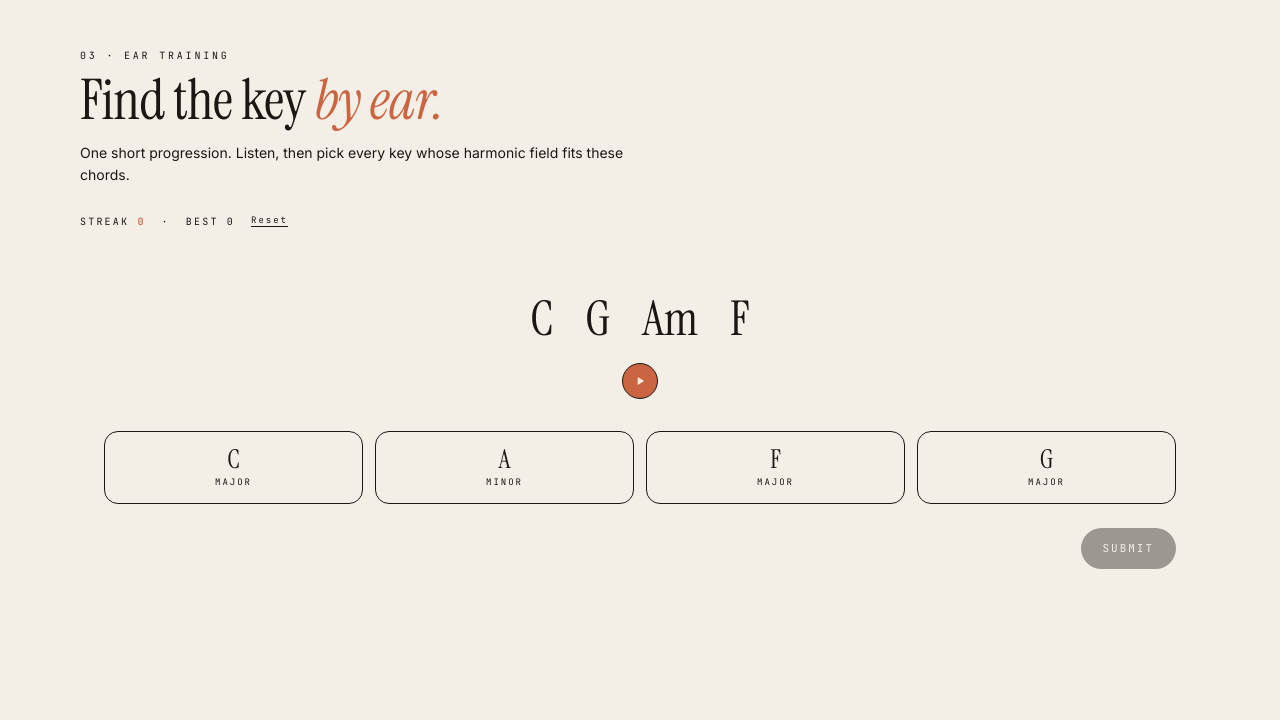
it: EarTrainingView › Try again clears selections and reveal, leaves streak alone
Click the button "C Major". click: (234, 467)
box: x1=104 y1=431 x2=363 y2=504
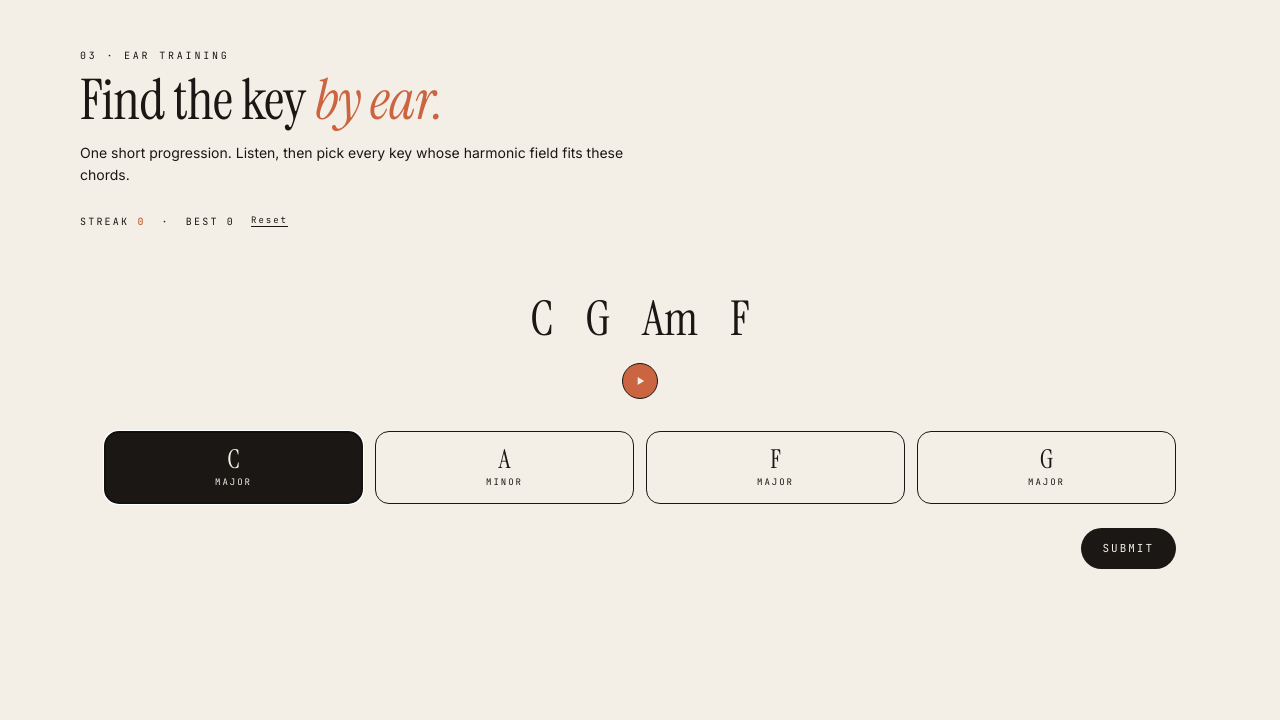
Click the button "F Major". click: (776, 467)
box: x1=646 y1=431 x2=905 y2=504
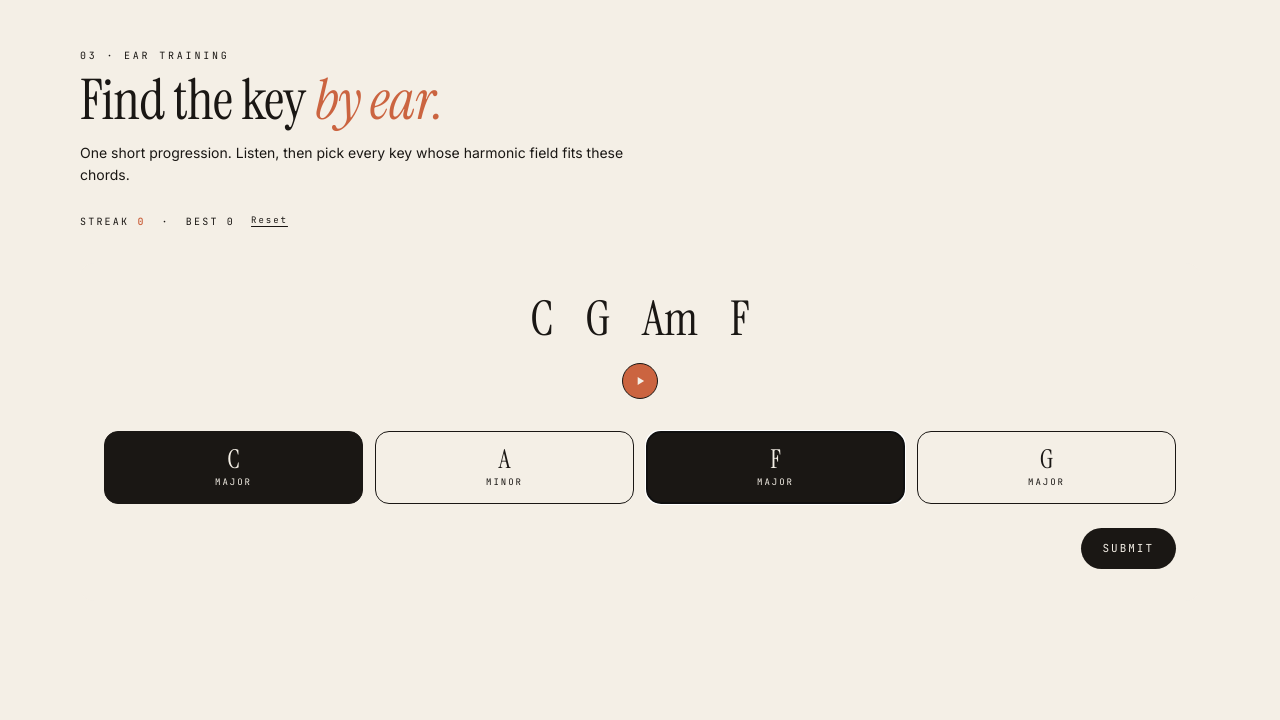
Click the button "Submit". click: (1128, 548)
box: x1=1080 y1=528 x2=1176 y2=569
(page scrolled)
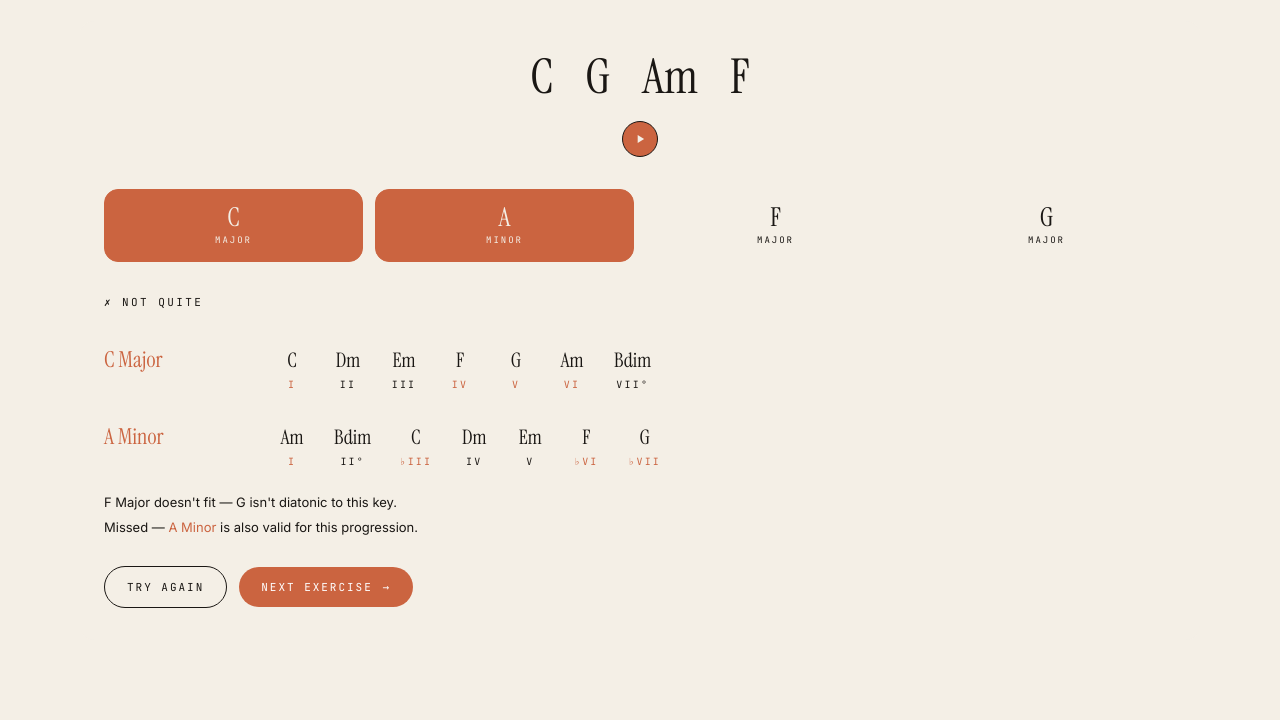
Click the button "Try again". click: (166, 587)
box: x1=104 y1=566 x2=227 y2=608
(page scrolled)
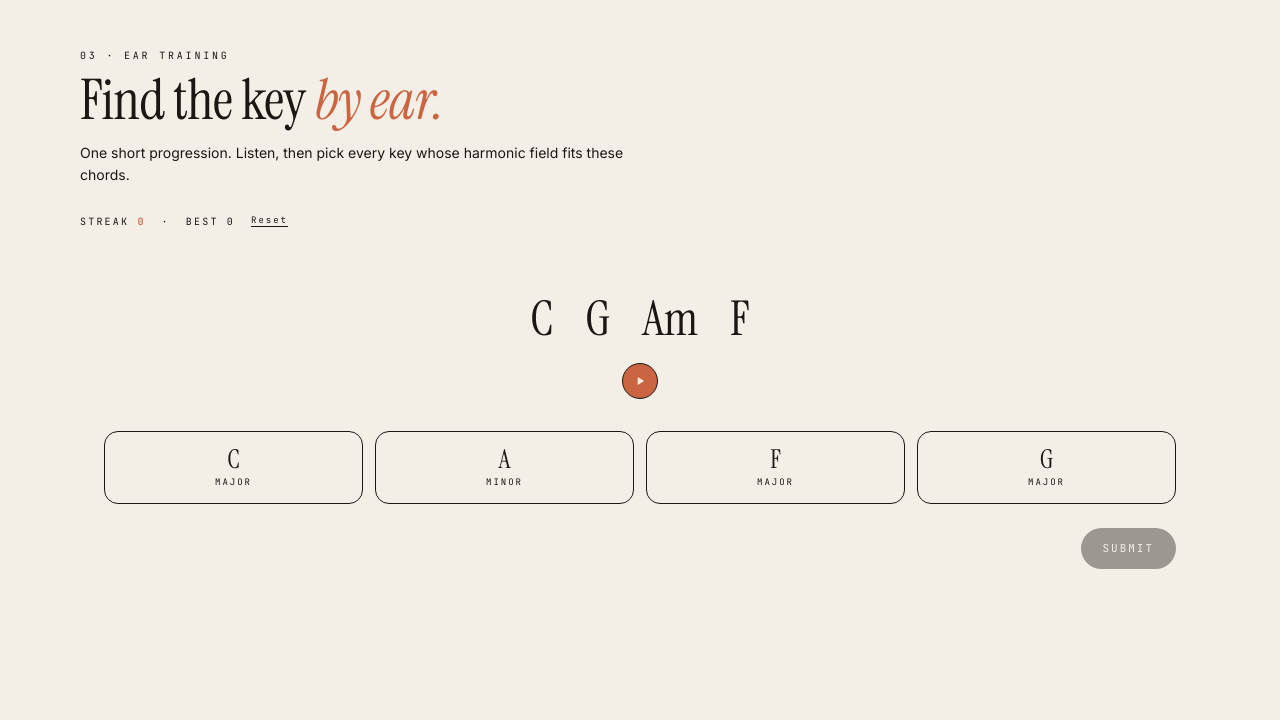
Expected: the text "Not quite" is gone
Expected: the button "Submit" is disabled, x1=1080 y1=528 x2=1176 y2=569
